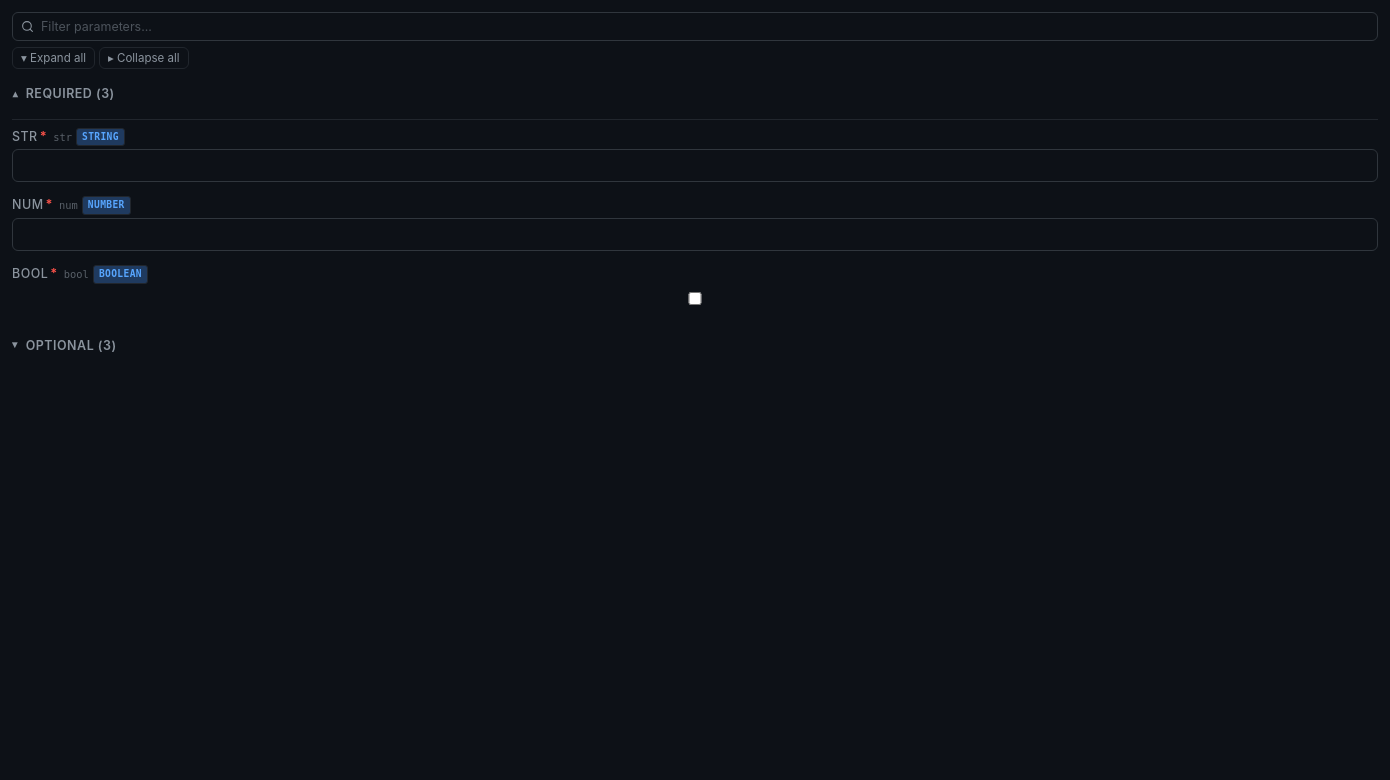
Test case: ParamEditor › renders all six param types in the same schema
The width and height of the screenshot is (1390, 780).
Check: the button "▾ Required (3)" is shown, box [12,77,1378,111]
Check: the text "str" is shown, box [53,131,72,143]
Click the button "▾ Optional (3)" at (71,345), box [12,329,1378,362]
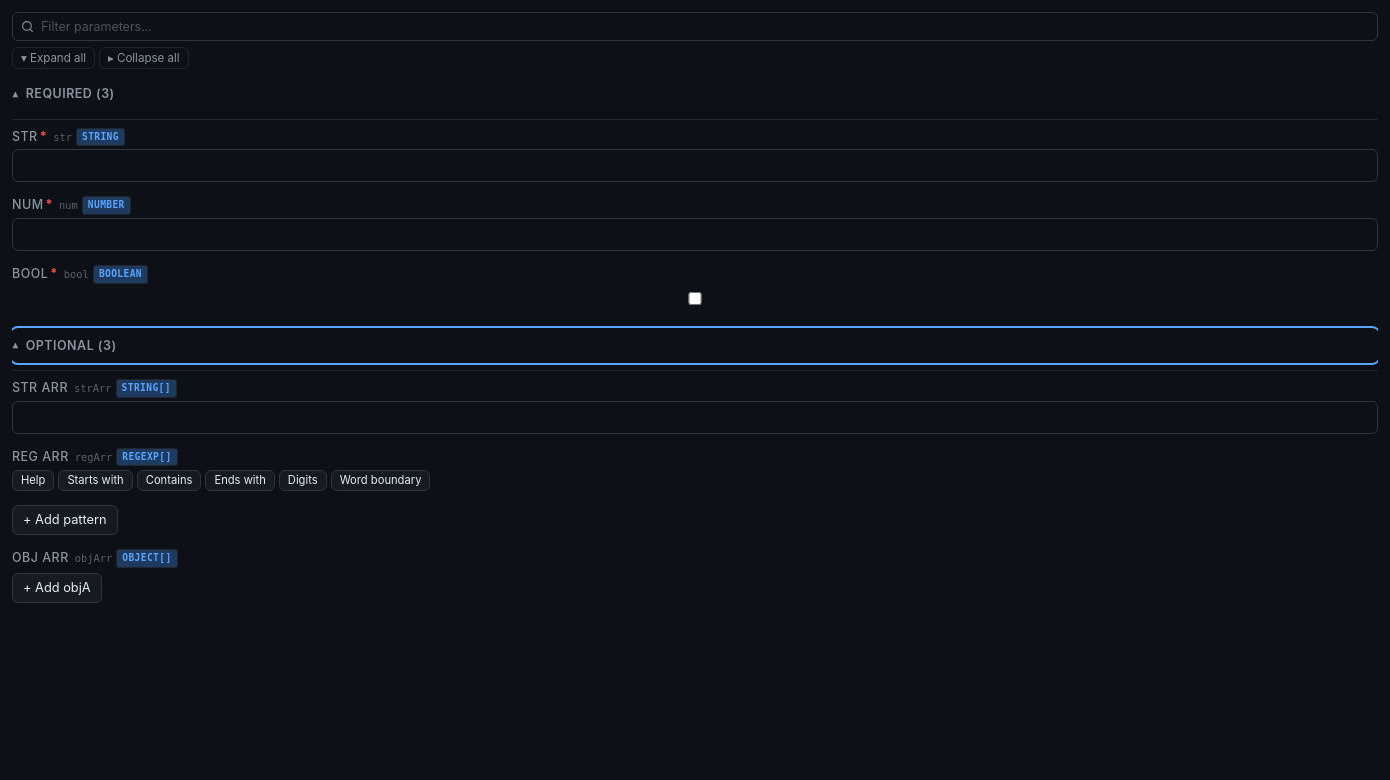
Check: the text "strArr" is shown, box [74,382,112,394]
Check: the text "regArr" is shown, box [75,451,112,463]
Check: the text "objArr" is shown, box [75,552,112,564]
